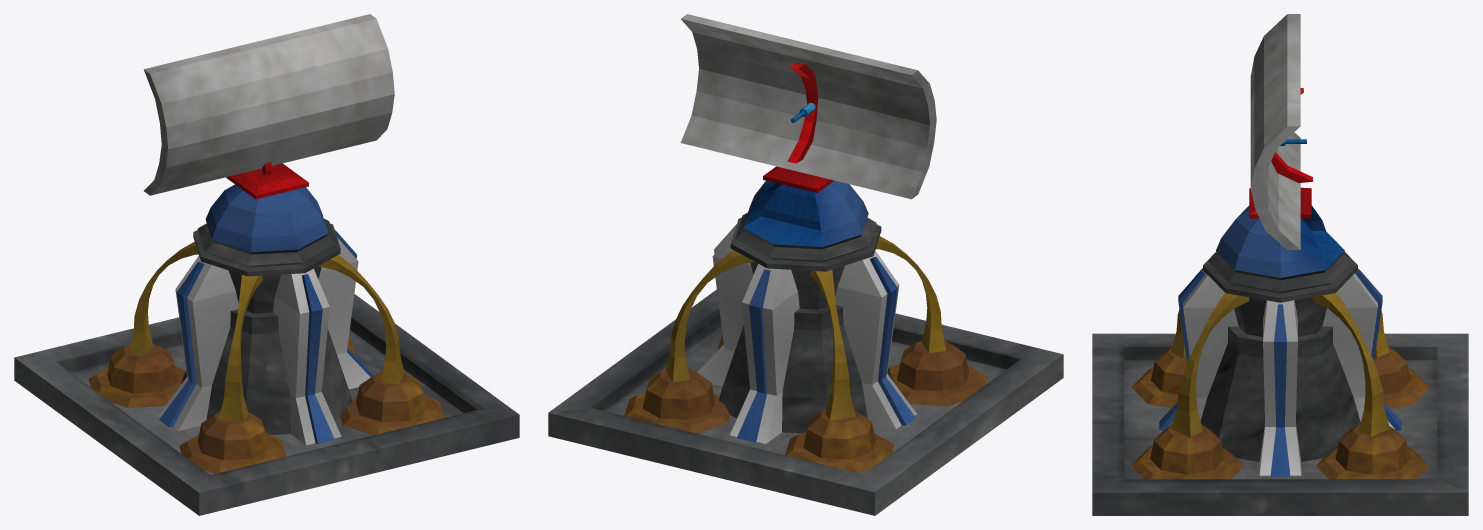
The model's file is TorreRadar3BIDU.fbx.
3 views of the same model, side by side, from view 1: azimuth 30°, elevation 25°; view 2: azimuth 150°, elevation 25°; view 3: azimuth 270°, elevation 25° (orthographic).
Visible parts, largest first — view 1: Base, Torre; view 2: Base, Torre; view 3: Base, Torre.
Boxes of the visible parts, x1,y1,x2,y2 form: Base: (14,230,519,515); Torre: (143,14,394,276); Base: (548,224,1063,515); Torre: (680,14,936,271); Base: (1092,268,1468,515); Torre: (1203,14,1357,302).
Bounding box in the file's own units: 8.41 × 9.03 × 8.41.
